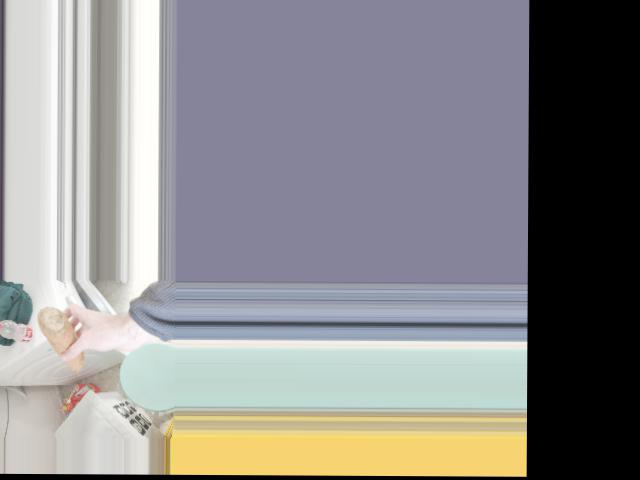sweet_potato: (36, 307, 82, 372)
